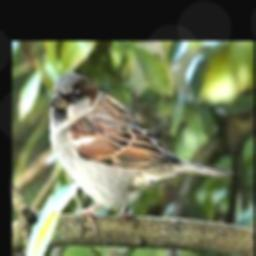Sparrow: (50, 71, 233, 231)
